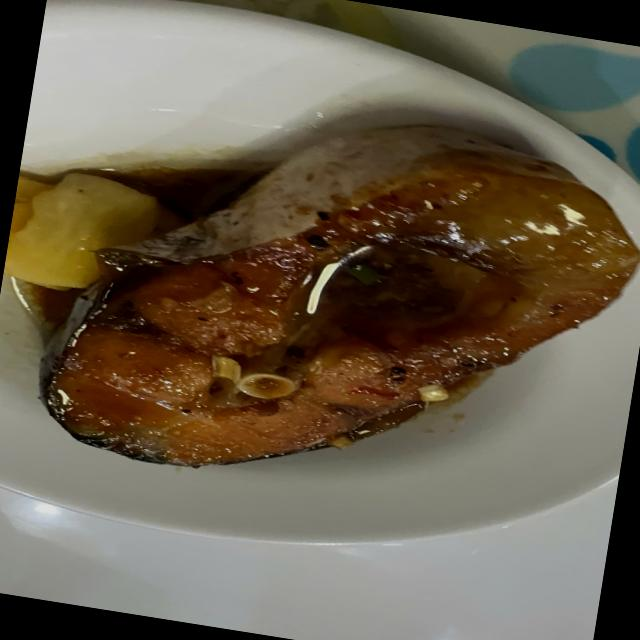ca kho: (41, 127, 640, 467)
